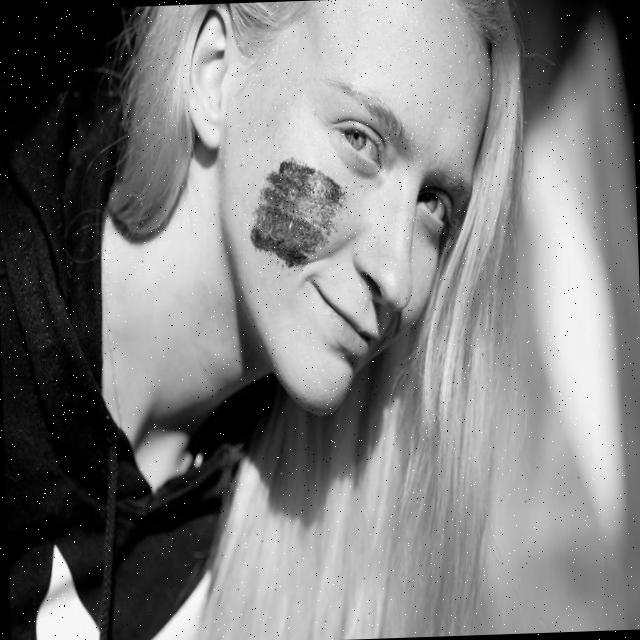Happiness: (207, 0, 510, 423)
